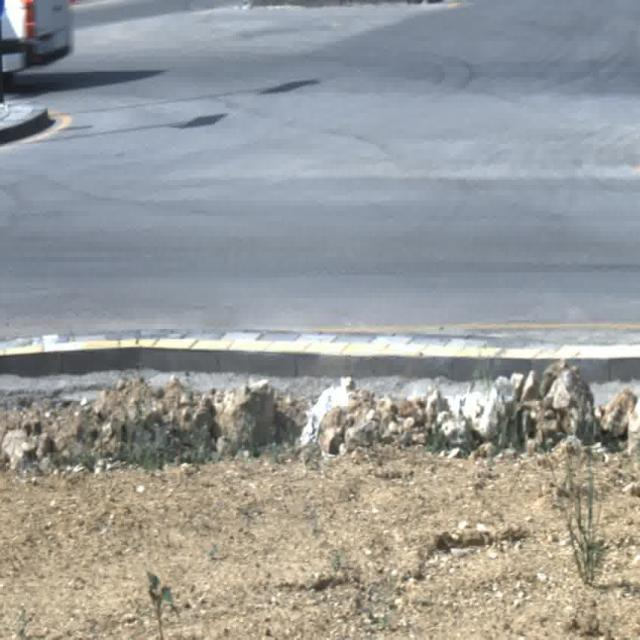Car: (0, 0, 75, 96)
